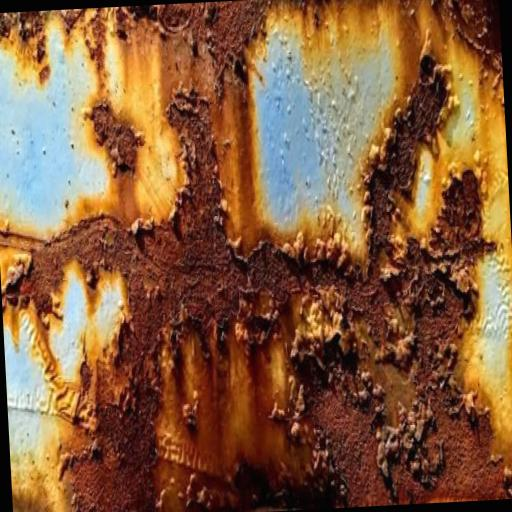segmentation: (394, 38, 511, 238), (81, 93, 154, 179), (433, 170, 490, 262), (0, 6, 50, 60)
